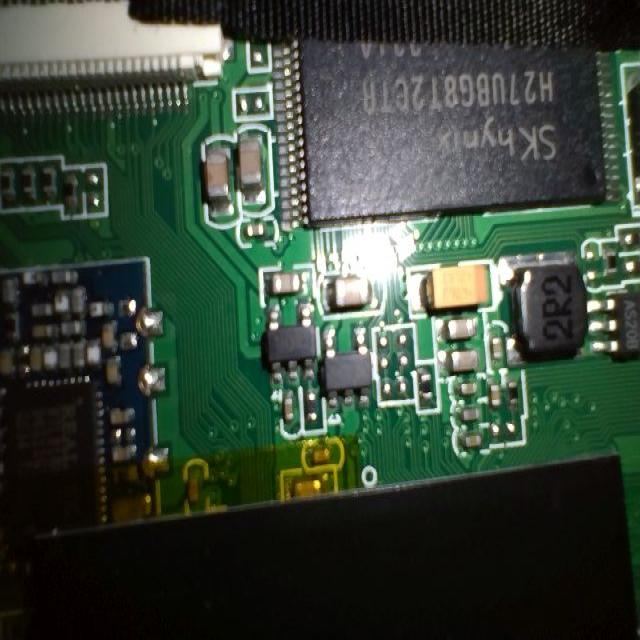capacitor: (405, 255, 506, 319), (228, 121, 279, 216), (197, 135, 239, 240), (434, 303, 487, 349), (440, 341, 490, 386), (444, 371, 485, 402), (485, 374, 512, 412), (452, 400, 484, 428), (488, 334, 512, 371), (463, 426, 484, 460)
resistor: (0, 138, 22, 229), (297, 386, 327, 437), (61, 161, 85, 223), (19, 153, 42, 216), (44, 160, 59, 206)
